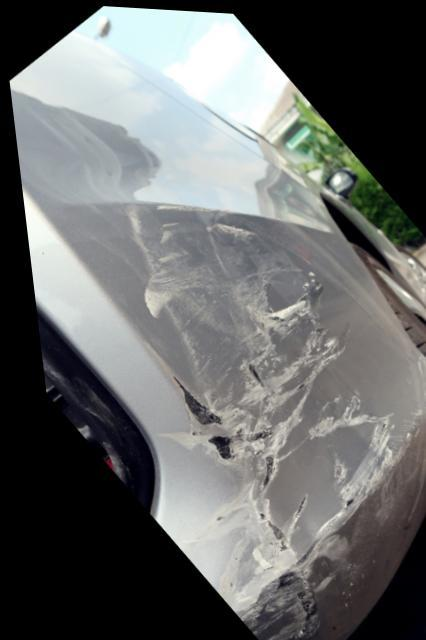rub: (115, 195, 426, 640)
